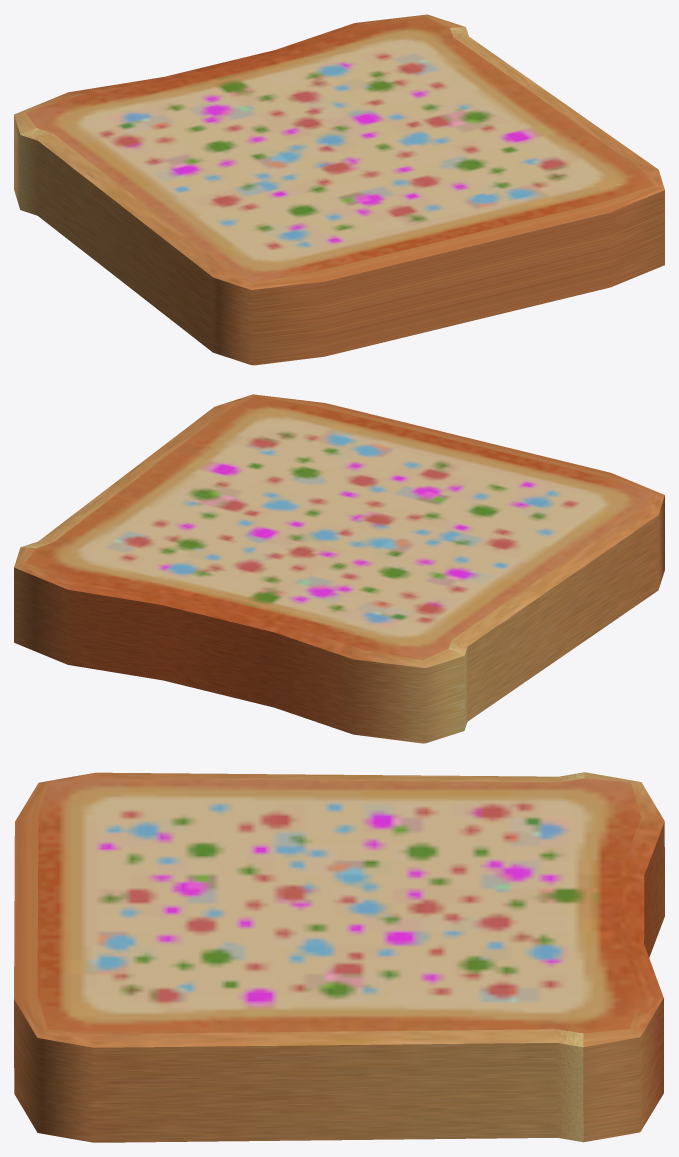
The model's file is FairyBread.fbx.
3 renders of one model, top to bottom at view 1: azimuth 30°, elevation 25°; view 2: azimuth 150°, elevation 25°; view 3: azimuth 270°, elevation 25°, orthographic. The views are drawn at different scales.
Parts seen in each view (by area): view 1: Cake; view 2: Cake; view 3: Cake.
Part boxes in pixels (x1=…): Cake: x1=14, y1=14, x2=664, y2=365; Cake: x1=14, y1=394, x2=664, y2=743; Cake: x1=14, y1=772, x2=664, y2=1142.
Bounding box in the file's own units: 0.483 × 0.0875 × 0.483.
Materials: 1 (1 with a texture image).
